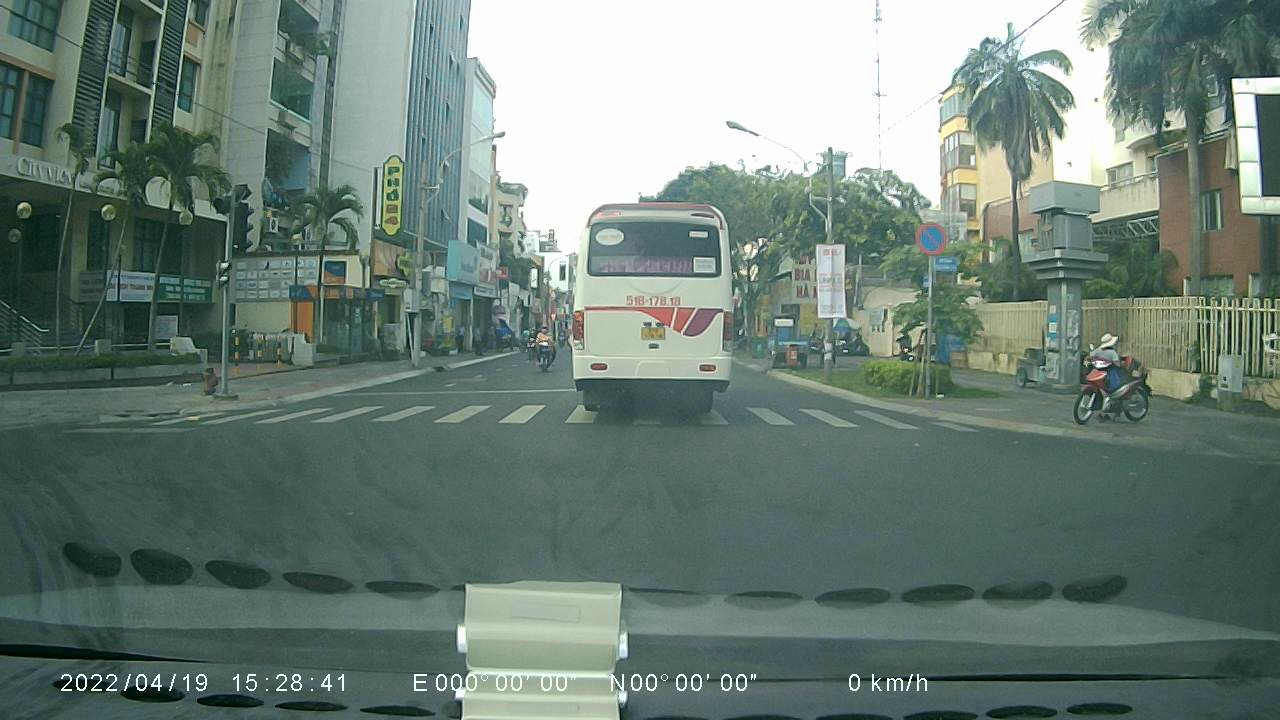Cam do xe: (916, 221, 949, 255)
